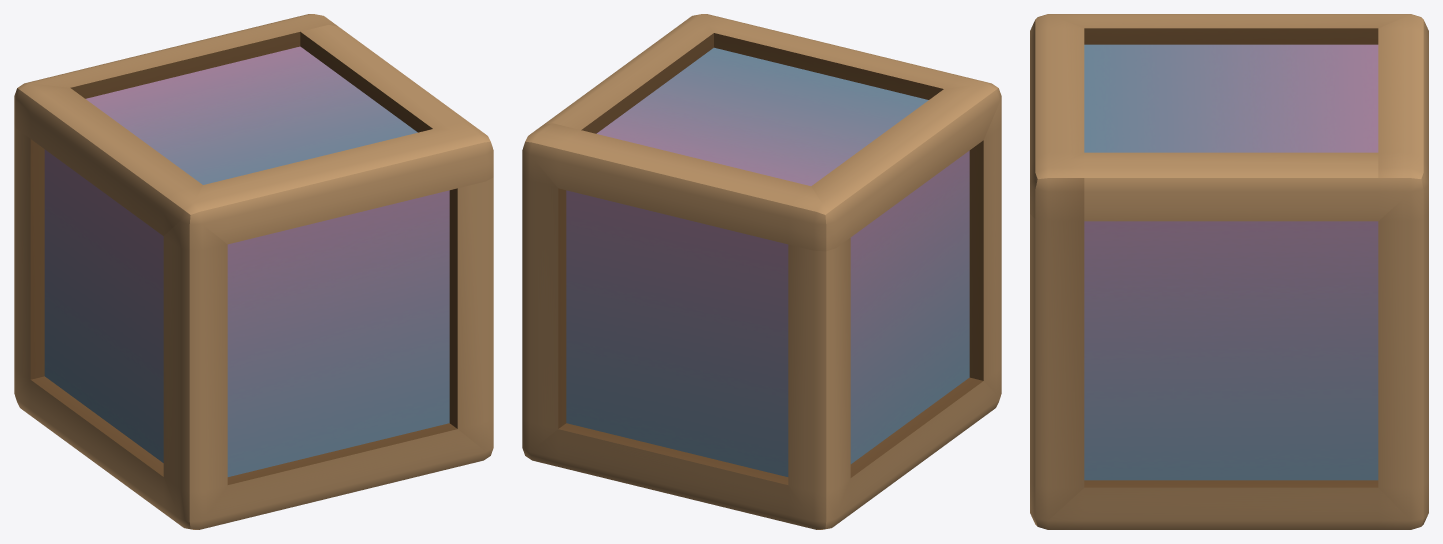
The picture shows the model from 3 angles, left to right: view 1: azimuth 30°, elevation 25°; view 2: azimuth 150°, elevation 25°; view 3: azimuth 270°, elevation 25°; orthographic projection. The views are drawn at different scales.
Visible parts, largest first — view 1: boxEdgy1; view 2: boxEdgy1; view 3: boxEdgy1.
Part boxes in pixels (x1,y1,x2,y2): boxEdgy1: (14,14,493,529); boxEdgy1: (522,14,1001,529); boxEdgy1: (1030,14,1428,529).
Size of the model in its own units: 1.27 by 1.27 by 1.27.
